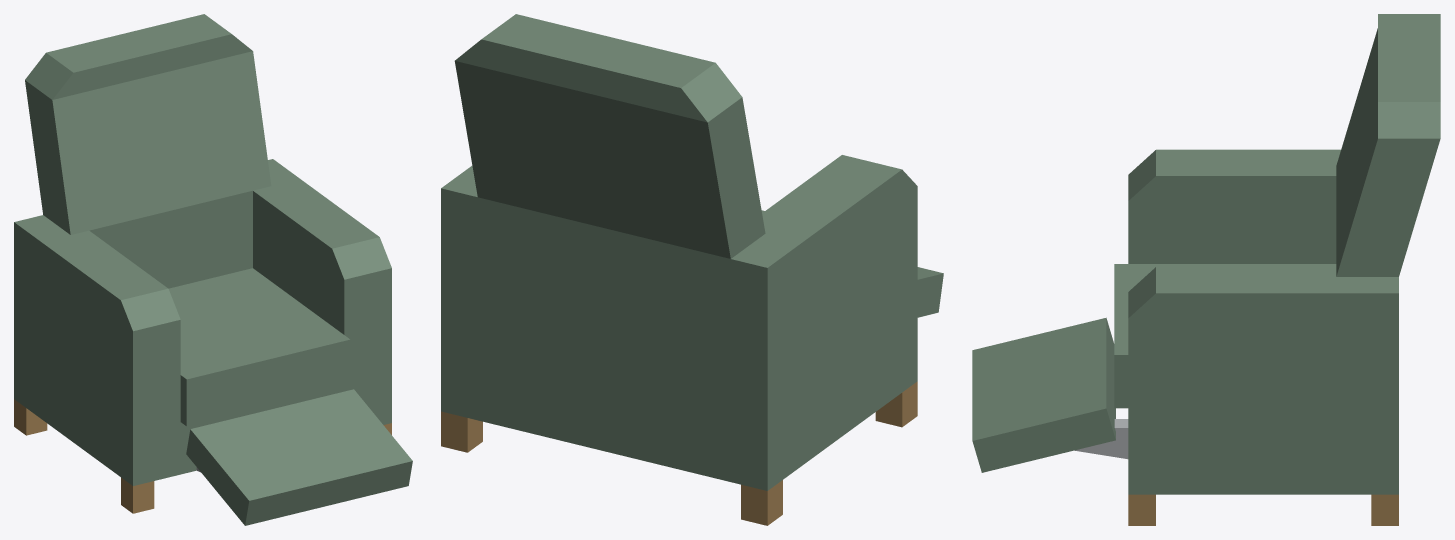
Rendered from recliner.glb.
3 renders of one model, left to right at view 1: azimuth 30°, elevation 25°; view 2: azimuth 150°, elevation 25°; view 3: azimuth 270°, elevation 25°, orthographic. The views are drawn at different scales.
Parts seen in each view (by area): view 1: recliner; view 2: recliner; view 3: recliner.
Part boxes in pixels (x1=…): recliner: x1=14, y1=14, x2=412, y2=525; recliner: x1=441, y1=14, x2=943, y2=525; recliner: x1=972, y1=14, x2=1440, y2=525.
Bounding box in the file's own units: 0.98 × 1.26 × 1.35.
